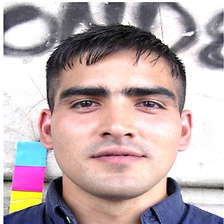no_mask: (50, 59, 182, 192)
